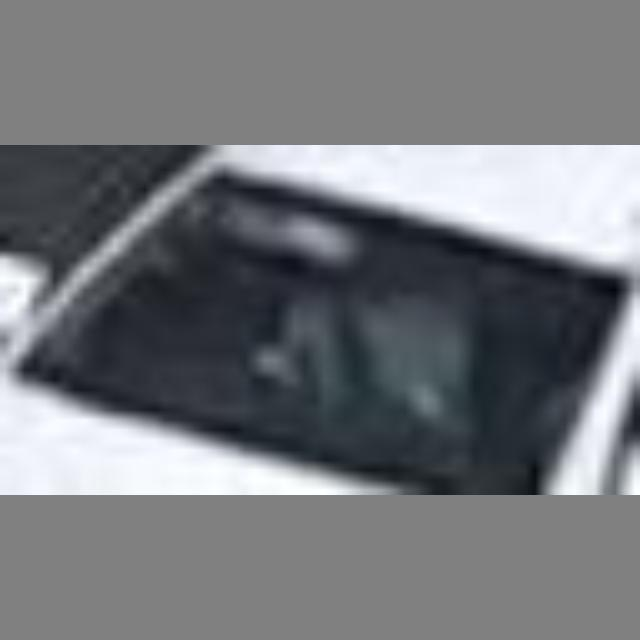pakai: (250, 255, 480, 455)
